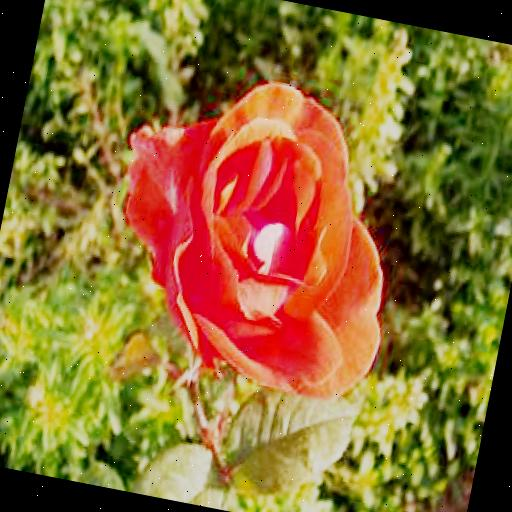rose: (89, 56, 424, 406)
